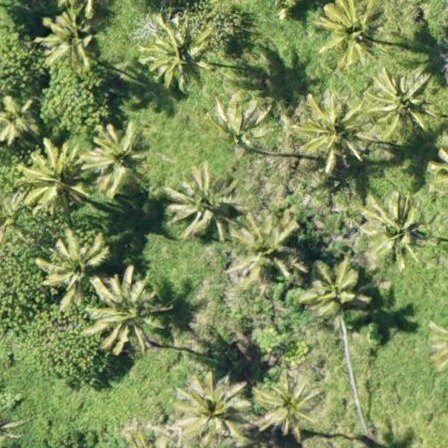palm_tree: (84, 273, 162, 353), (138, 12, 216, 89), (312, 1, 386, 66), (176, 376, 247, 442), (166, 167, 233, 235), (39, 236, 109, 301), (234, 215, 300, 282), (36, 12, 106, 73), (370, 70, 433, 137), (21, 142, 84, 206), (84, 127, 146, 192), (364, 197, 428, 259), (253, 377, 316, 435), (304, 263, 367, 317), (1, 94, 40, 141), (425, 321, 448, 377)
